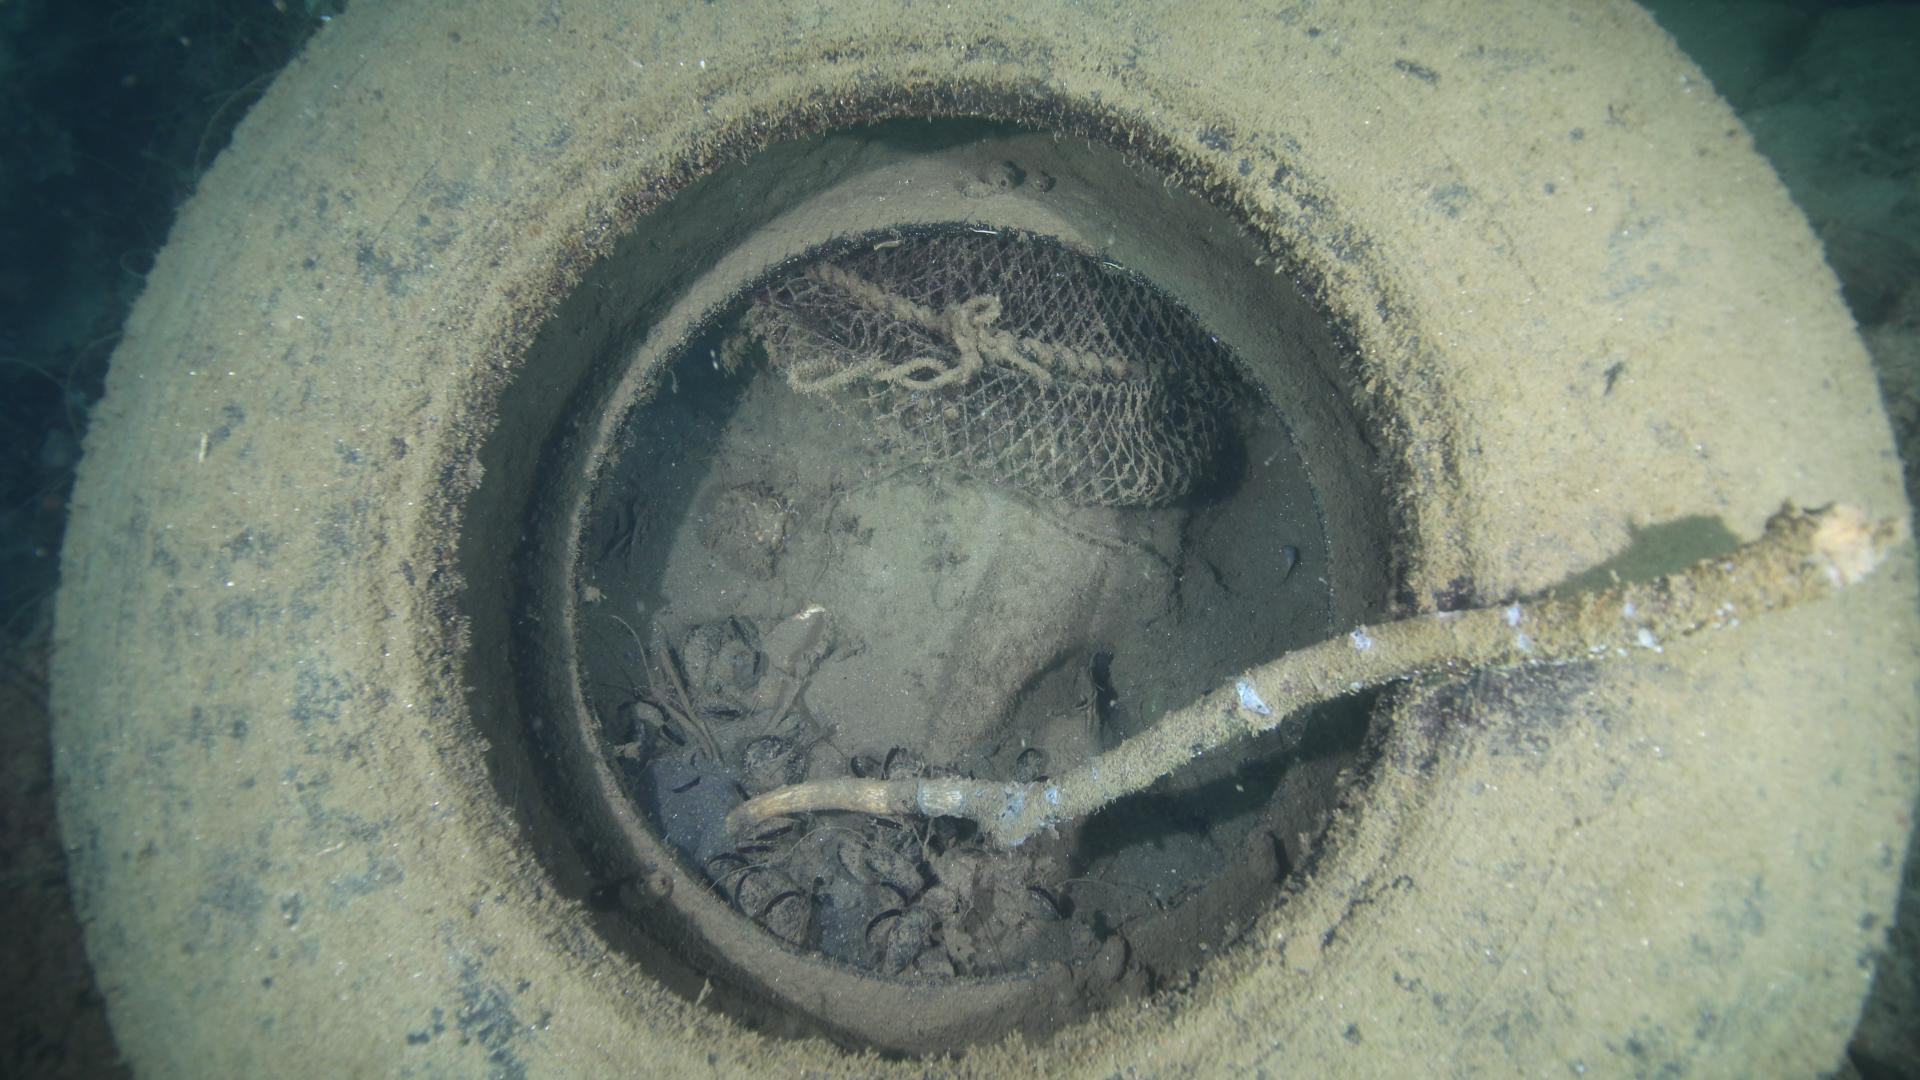fish net: (738, 229, 1237, 510)
tire: (38, 0, 1920, 1080)
